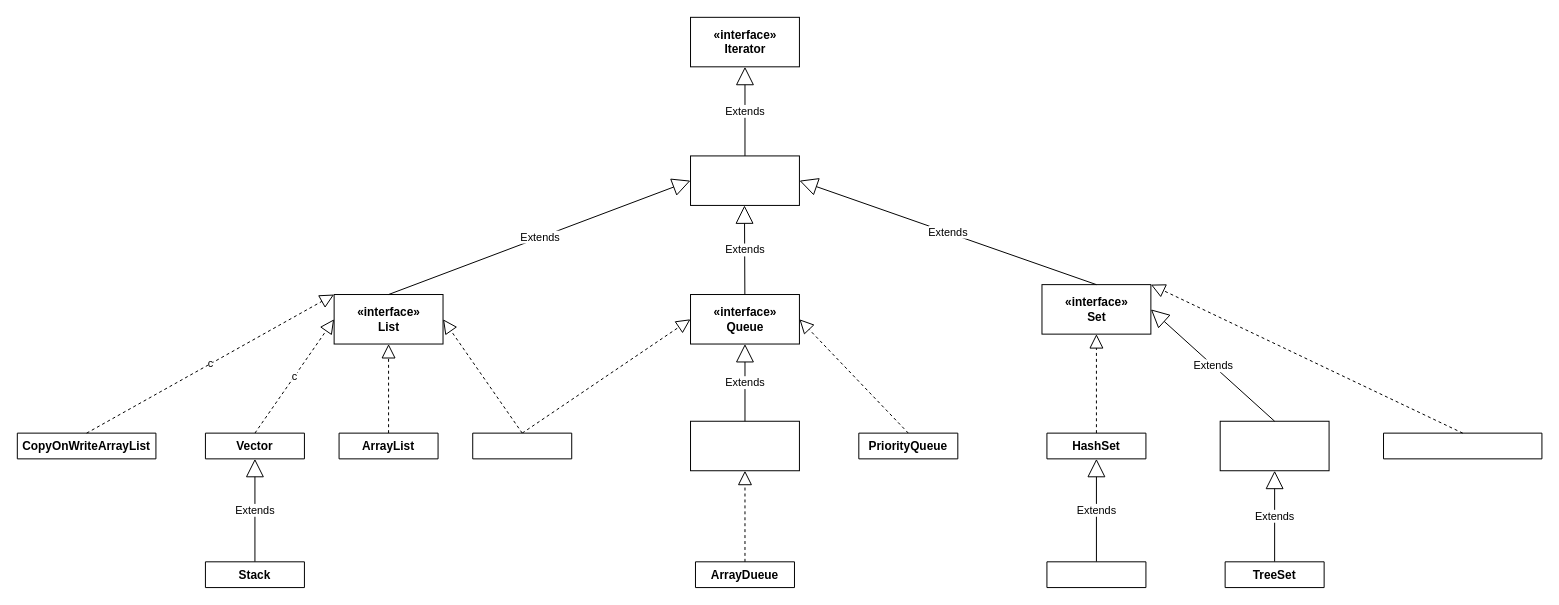
Some shapes in this 1559 by 605 pixel diagram are drawn without their labels. Each missing label, with the centre of its shape:
"CopyOnWriteArraySet" goes at [1462,445].
"LinkedHashSet" goes at [1096,574].
"LinkedList" goes at [522,445].
"«interface» Collection" goes at [744,180].
"«interface» Deque" goes at [744,445].
"«interface» SortedSet" goes at [1274,445].
